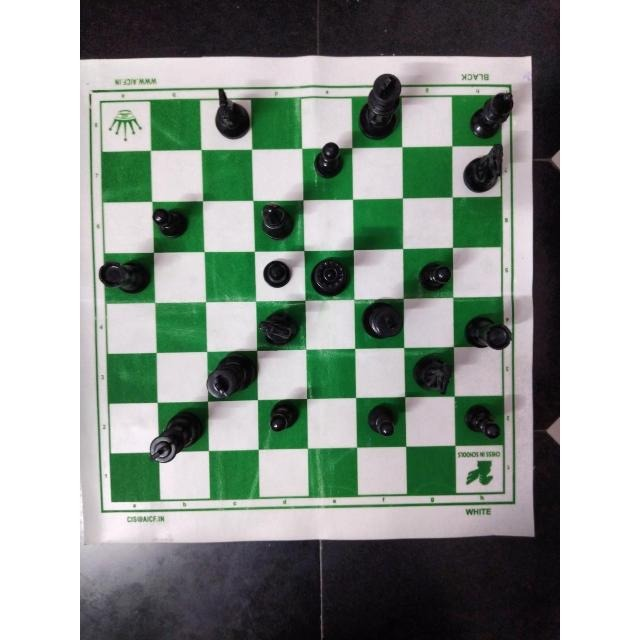black-bishop: (467, 89, 514, 141), (257, 202, 295, 242)
black-king: (356, 70, 406, 145), (146, 406, 206, 466), (205, 348, 259, 403), (357, 299, 404, 343)
black-knight: (209, 82, 255, 143), (461, 139, 505, 199), (411, 352, 457, 395), (255, 307, 303, 348)
black-pawn: (362, 402, 402, 442), (463, 402, 503, 442), (150, 204, 191, 242), (310, 140, 345, 180), (266, 399, 301, 437), (414, 259, 453, 293), (261, 257, 295, 291)
black-queen: (307, 258, 352, 300)
black-rook: (460, 312, 515, 352), (94, 259, 152, 295)
